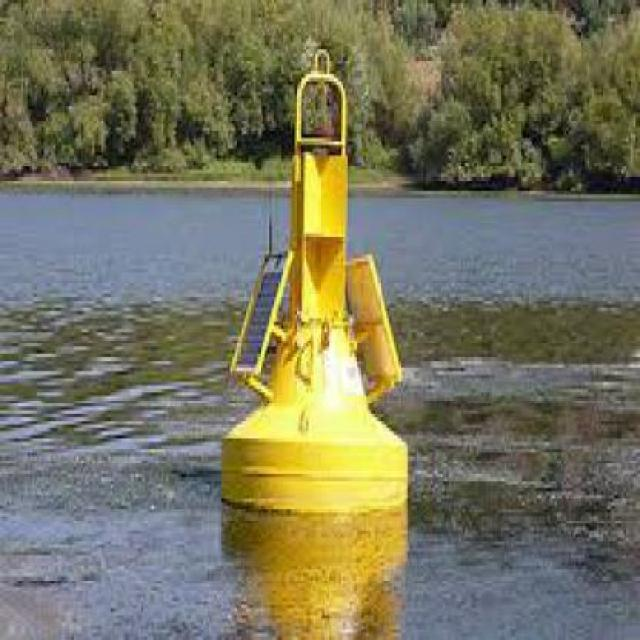buoy: (199, 30, 430, 550)
